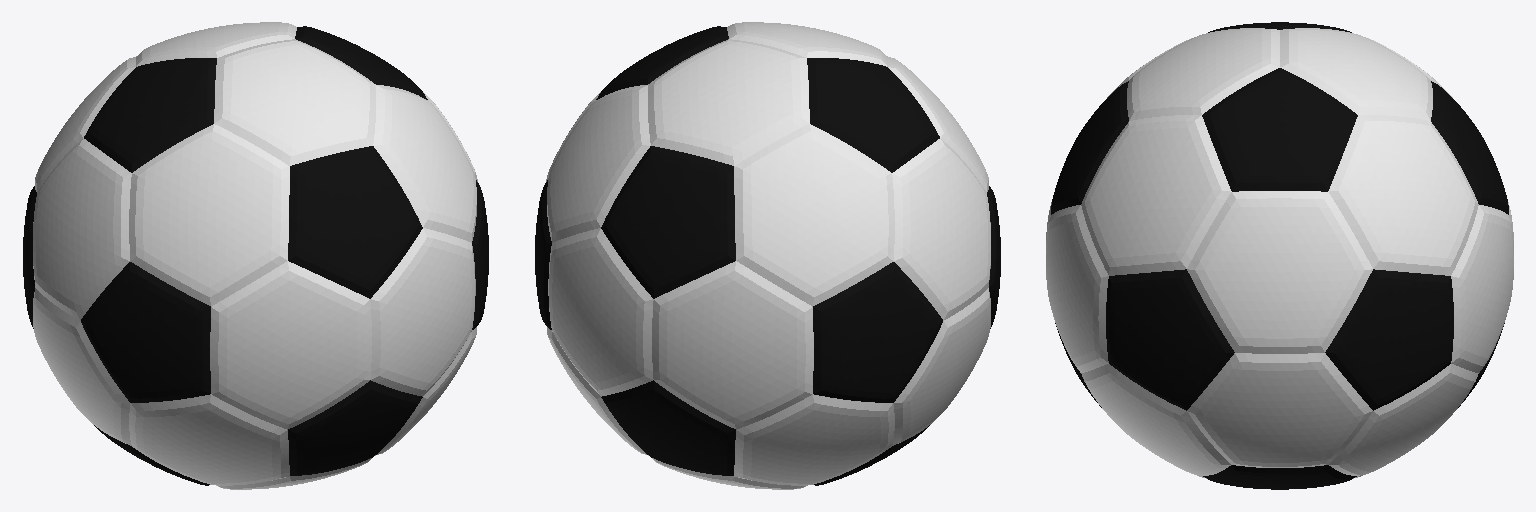
File: Fussball.obj
3 views of the same model, side by side, from view 1: azimuth 30°, elevation 25°; view 2: azimuth 150°, elevation 25°; view 3: azimuth 270°, elevation 25° (orthographic).
Visible parts, largest first — view 1: Fussball_Solid; view 2: Fussball_Solid; view 3: Fussball_Solid.
Part boxes in pixels (left/top/right/bottom): Fussball_Solid: left=23, top=22, right=488, bottom=489; Fussball_Solid: left=535, top=22, right=1000, bottom=489; Fussball_Solid: left=1046, top=22, right=1513, bottom=489.
Bounding box in the file's own units: 1.76 × 1.76 × 1.76.